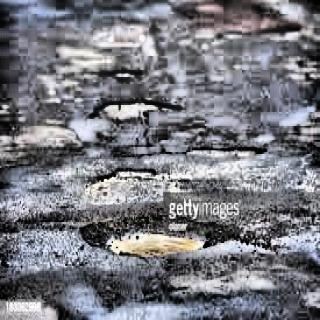pothole: (75, 205, 313, 295), (82, 88, 193, 142), (174, 136, 278, 187), (88, 158, 173, 198), (95, 55, 153, 87)
